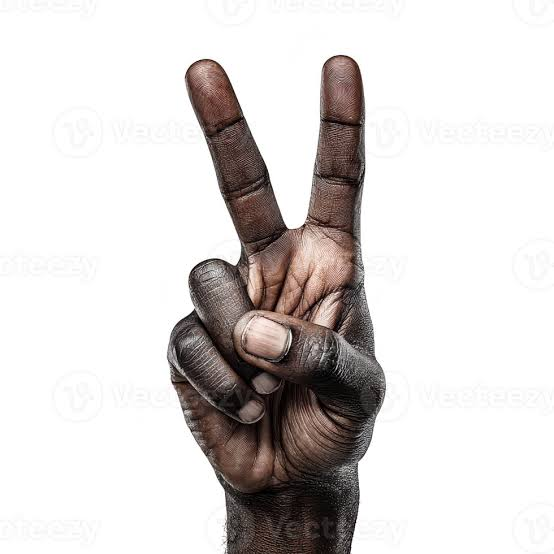peace_sign: (162, 48, 398, 486)
